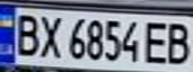4: (118, 17, 145, 64)
5: (103, 17, 124, 62)
6: (63, 15, 87, 61)
8: (84, 16, 106, 62)
B: (9, 10, 42, 57), (163, 19, 193, 66)
E: (142, 18, 172, 65)
X: (36, 11, 63, 58)
